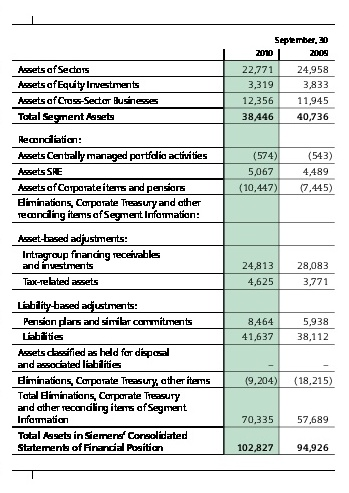table: (0, 0, 349, 493)
